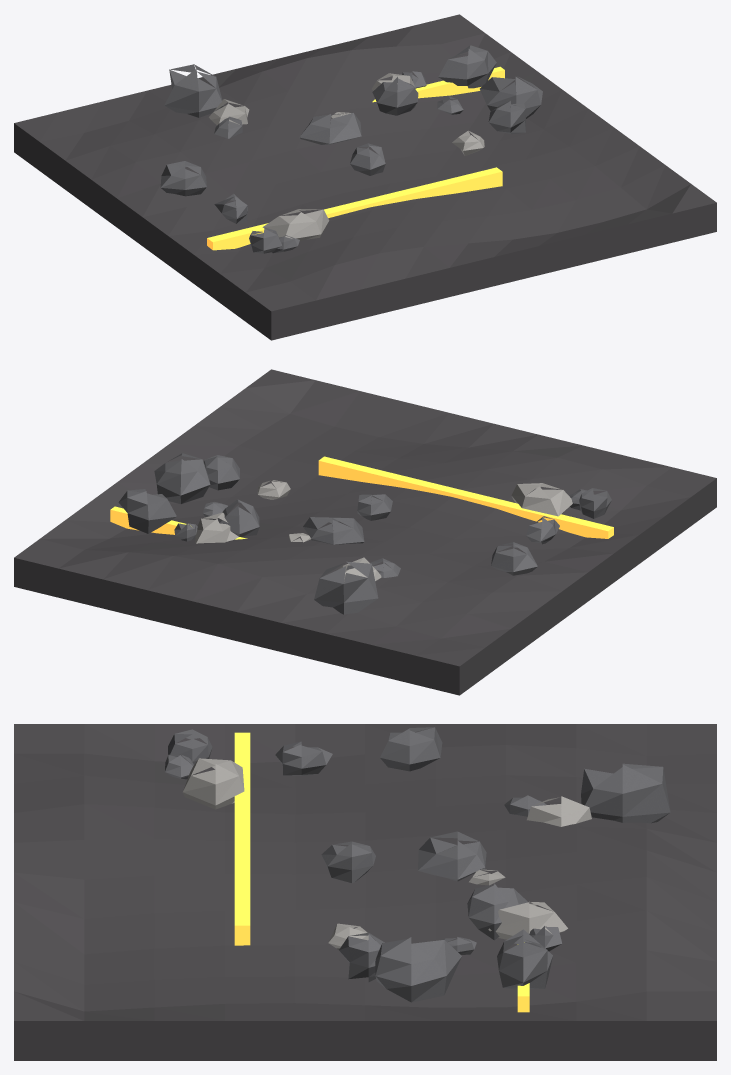
File: volcano-and-lava-fields-volcano-and-lava-fields-crater-35b26cd2__37436.glb
The picture shows the model from 3 angles, top to bottom: view 1: azimuth 30°, elevation 25°; view 2: azimuth 150°, elevation 25°; view 3: azimuth 270°, elevation 25°; orthographic projection. The views are drawn at different scales.
Visible parts, largest first — view 1: volcano-and-lava-fields-crater-floor-module; view 2: volcano-and-lava-fields-crater-floor-module; view 3: volcano-and-lava-fields-crater-floor-module.
Part boxes in pixels (x1,y1,x2,y2): volcano-and-lava-fields-crater-floor-module: [14, 14, 716, 340]; volcano-and-lava-fields-crater-floor-module: [14, 369, 716, 695]; volcano-and-lava-fields-crater-floor-module: [14, 724, 716, 1060].
Bounding box in the file's own units: 4 × 0.622 × 4.
Materials: 4 (2 with a texture image).
